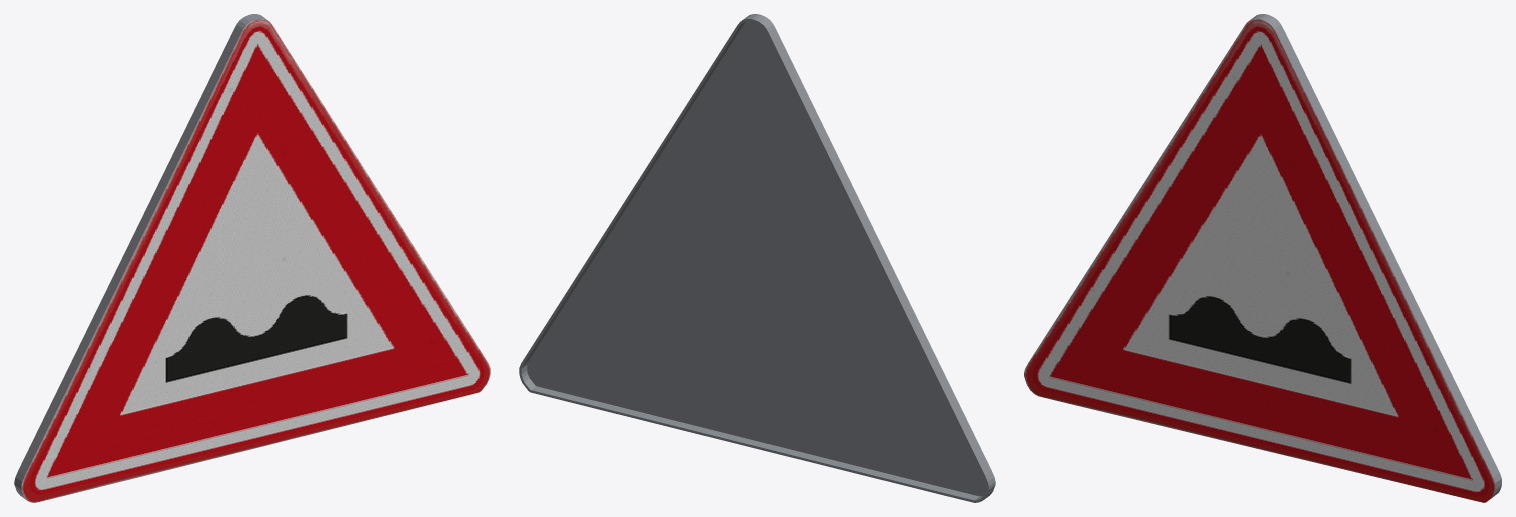
3 views of the same model, side by side, from view 1: azimuth 30°, elevation 25°; view 2: azimuth 150°, elevation 25°; view 3: azimuth 330°, elevation 25° (orthographic).
Visible parts, largest first — view 1: cat_13a508c5cd9583d4; view 2: cat_13a508c5cd9583d4; view 3: cat_13a508c5cd9583d4.
Boxes of the visible parts, x1,y1,x2,y2 form: cat_13a508c5cd9583d4: (14, 14, 490, 502); cat_13a508c5cd9583d4: (519, 14, 995, 502); cat_13a508c5cd9583d4: (1024, 14, 1501, 502).
Bounding box in the file's own units: 0.6 × 0.015 × 0.5245.
2 materials, 1 textured.
